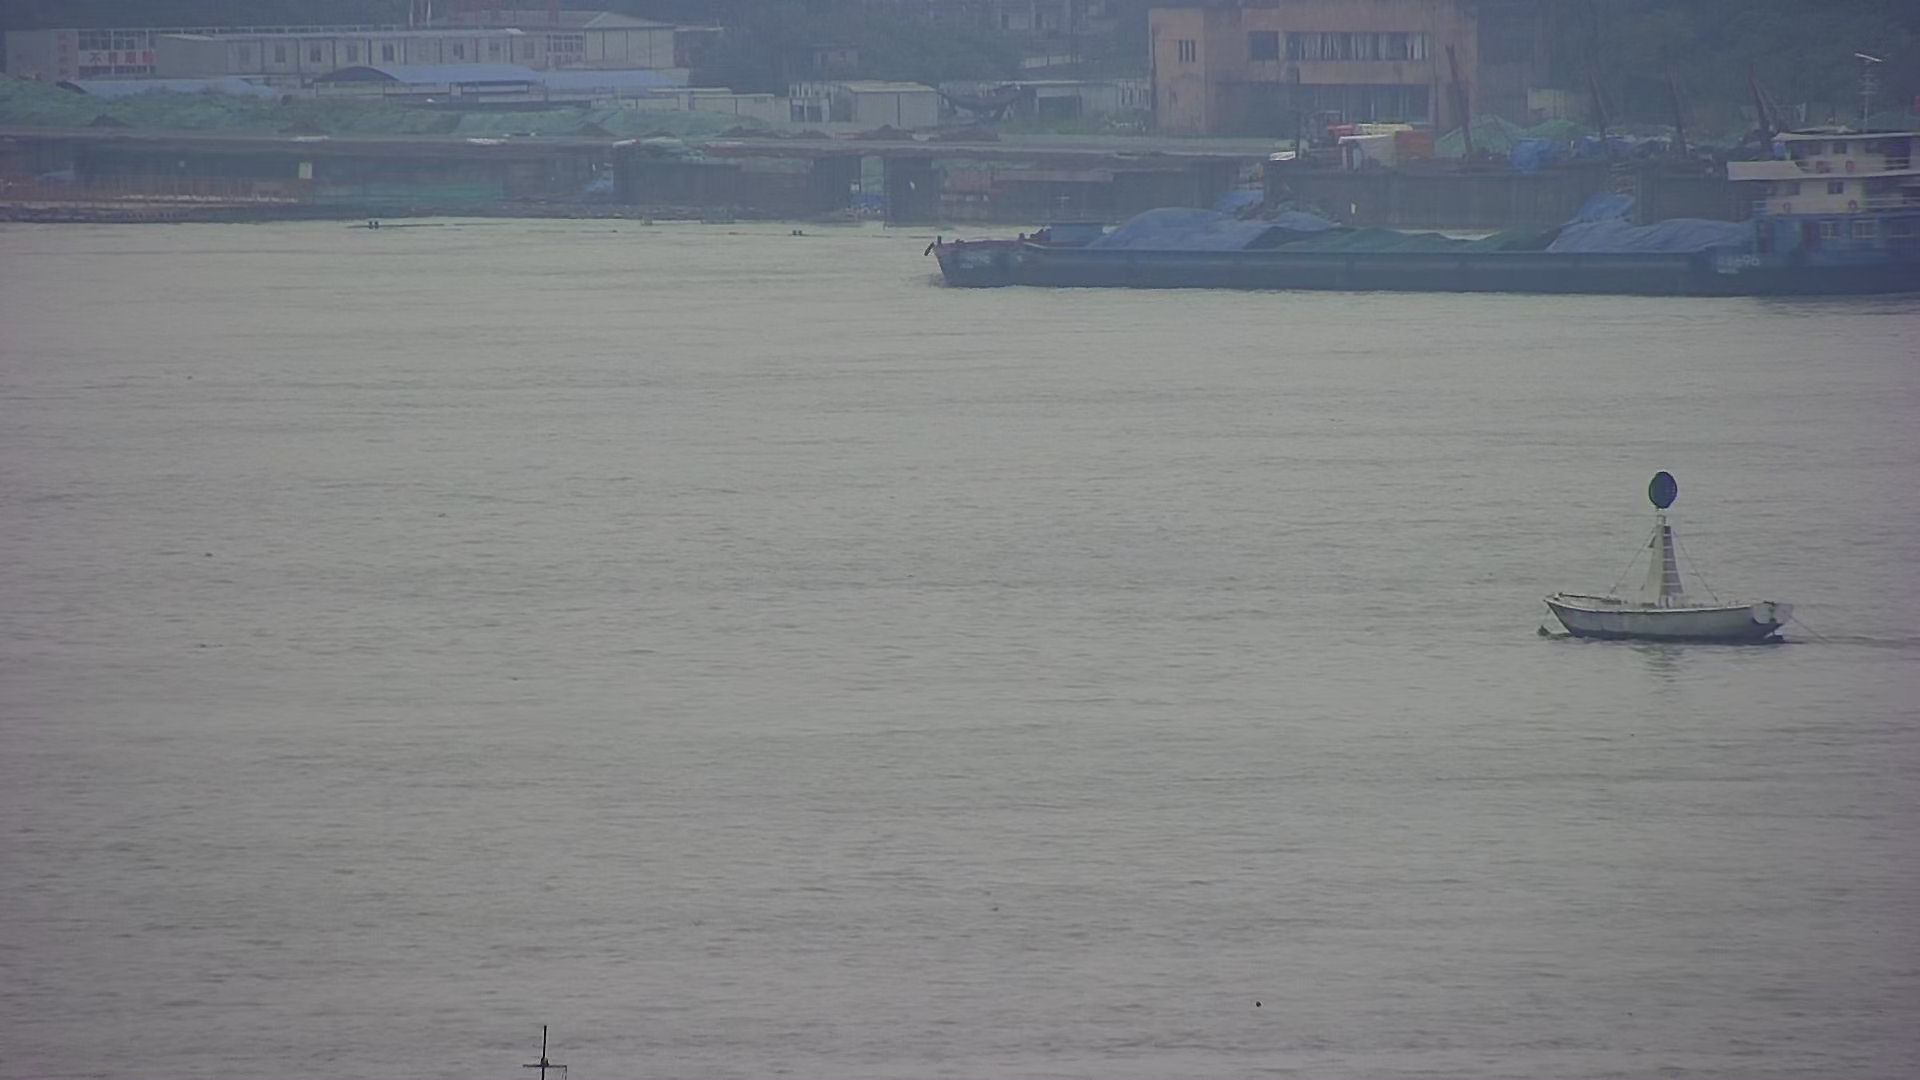boat: (1534, 467, 1805, 651)
ship: (922, 58, 1920, 297)
